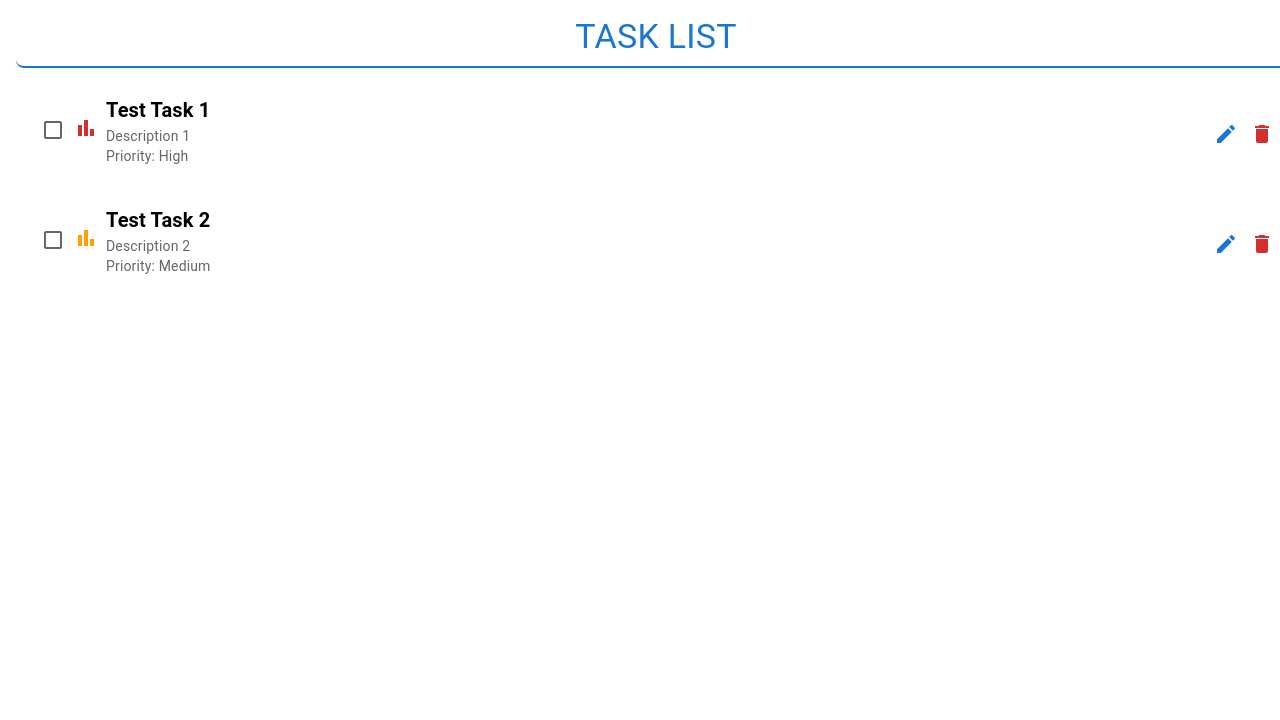
Test case: TaskList Component › opens edit modal when edit button is clicked
Click the 1st button named "edit" at (1226, 134), box [1206,114,1246,154]
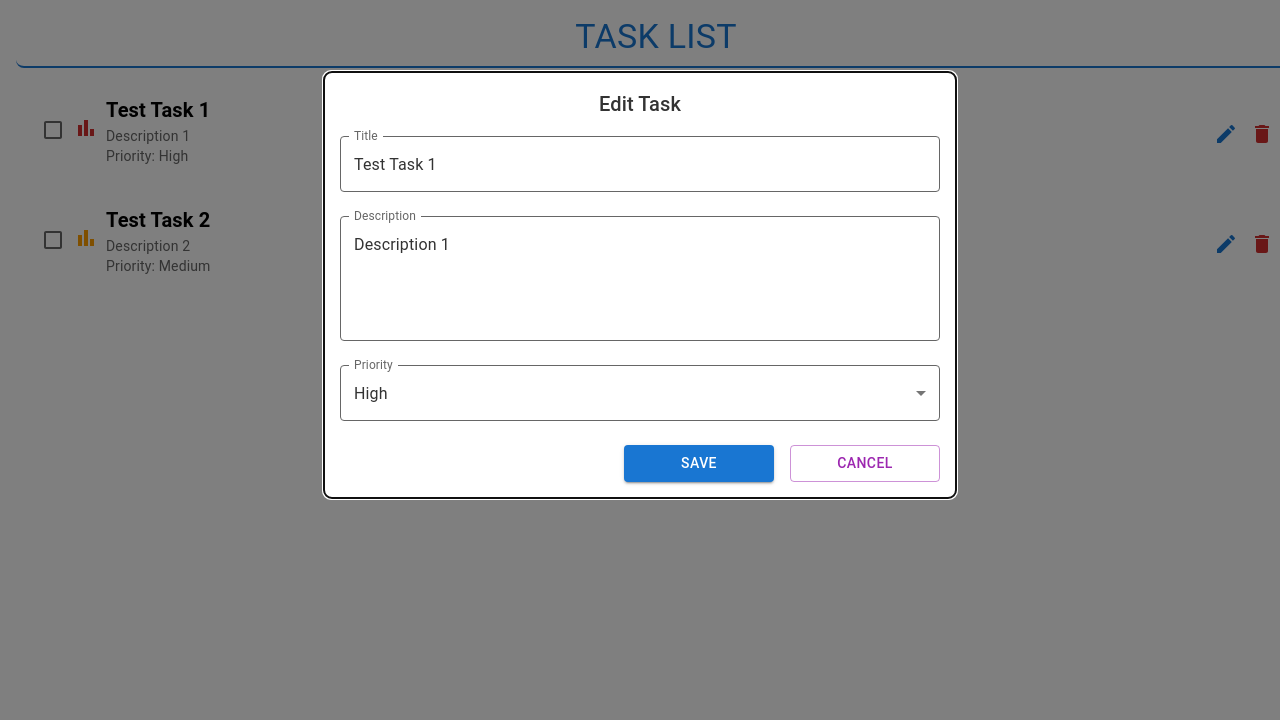
Now the heading "Edit Task" is shown, box [599,88,681,120]
